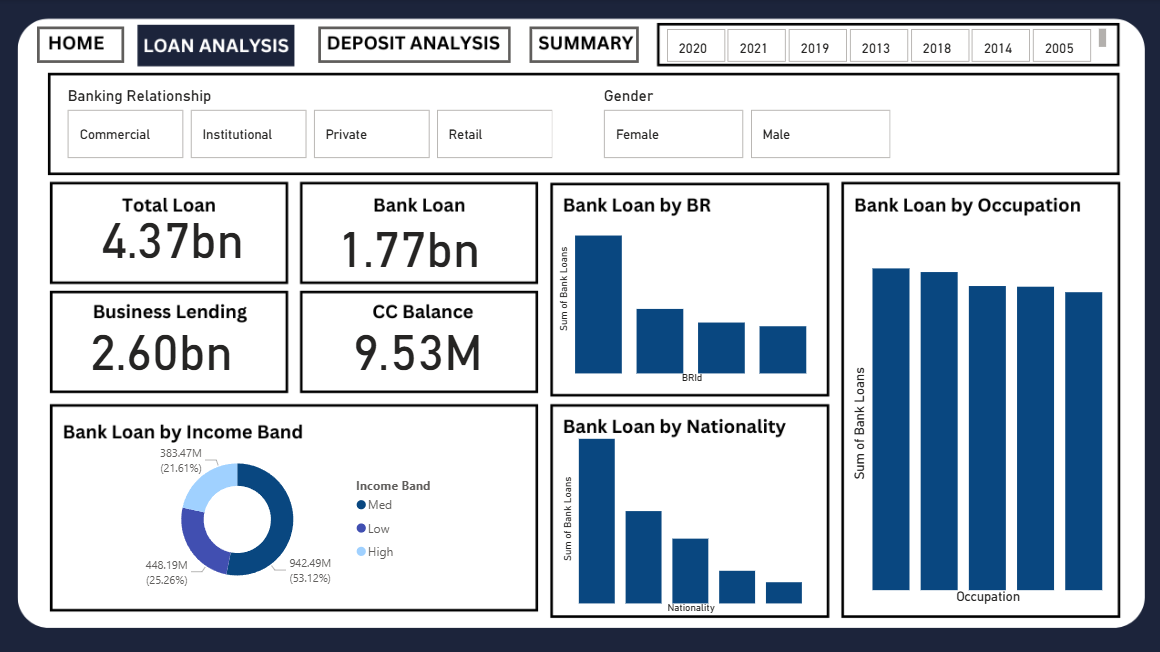

What the dashboard file says about the page in this screenshot:
{"tool":"powerbi","page":{"name":"Loan Analysis","canvas":[1280,720],"ordinal":1},"visuals":[{"type":"card","fields":{"Values":["Banking (1).Total Loan"]},"box":[108.6,204.3,168.6,108.6],"z":0},{"type":"card","fields":{"Values":["Sum(Banking (1).Bank Loans)"]},"box":[367.1,224.3,168.6,88.6],"z":1},{"type":"card","fields":{"Values":["Sum(Banking (1).Business Lending)"]},"box":[95.7,335.7,168.6,91.4],"z":2},{"type":"card","fields":{"Values":["Sum(Banking (1).Credit Card Balance)"]},"box":[377.1,342.9,168.6,77.1],"z":3},{"type":"actionButton","box":[44.3,30,95.7,40],"z":4},{"type":"actionButton","box":[352.9,30,211.4,40],"z":5},{"type":"actionButton","box":[584.3,30,120,40],"z":6},{"type":"donutChart","fields":{"Category":["Banking (1).Income Band"],"Y":["Sum(Banking (1).Bank Loans)"]},"box":[128.6,484.3,370,174.3],"z":7},{"type":"advancedSlicerVisual","fields":{"Values":["Banking (1).Year of Joining"]},"box":[732.9,30,487.1,40],"z":8},{"type":"clusteredColumnChart","fields":{"Category":["Banking (1).BRId"],"Y":["Sum(Banking (1).Bank Loans)"]},"box":[611.4,211.4,284.3,215.7],"z":9},{"type":"clusteredColumnChart","fields":{"Category":["Banking (1).Nationality"],"Y":["Sum(Banking (1).Bank Loans)"]},"box":[615.7,464.3,274.3,215.7],"z":10},{"type":"clusteredColumnChart","fields":{"Y":["Sum(Banking (1).Bank Loans)"],"Category":["Banking (1).Occupation"]},"box":[934.3,268.6,285.7,400],"z":11},{"type":"advancedSlicerVisual","fields":{"Values":["Banking (1).BRId"]},"box":[72.9,95.7,542.9,84.3],"z":12},{"type":"advancedSlicerVisual","fields":{"Values":["Banking (1).GenderId"]},"box":[661.4,95.7,487.1,84.3],"z":13}]}

Visuals, with their boxes in screenshot pixels (x1, y1, x2, y2), scaled from the page's 1280x720 canvas onto the 1160x652 screenshot:
card - Banking (1).Total Loan: bbox(98, 185, 251, 283)
card - Sum(Banking (1).Bank Loans): bbox(333, 203, 485, 283)
card - Sum(Banking (1).Business Lending): bbox(87, 304, 240, 387)
card - Sum(Banking (1).Credit Card Balance): bbox(342, 311, 495, 380)
actionButton: bbox(40, 27, 127, 63)
actionButton: bbox(320, 27, 511, 63)
actionButton: bbox(530, 27, 638, 63)
donutChart - Banking (1).Income Band x Sum(Banking (1).Bank Loans): bbox(117, 439, 452, 596)
advancedSlicerVisual - Banking (1).Year of Joining: bbox(664, 27, 1106, 63)
clusteredColumnChart - Banking (1).BRId x Sum(Banking (1).Bank Loans): bbox(554, 191, 812, 387)
clusteredColumnChart - Banking (1).Nationality x Sum(Banking (1).Bank Loans): bbox(558, 420, 807, 616)
clusteredColumnChart - Sum(Banking (1).Bank Loans) x Banking (1).Occupation: bbox(847, 243, 1106, 605)
advancedSlicerVisual - Banking (1).BRId: bbox(66, 87, 558, 163)
advancedSlicerVisual - Banking (1).GenderId: bbox(599, 87, 1041, 163)
